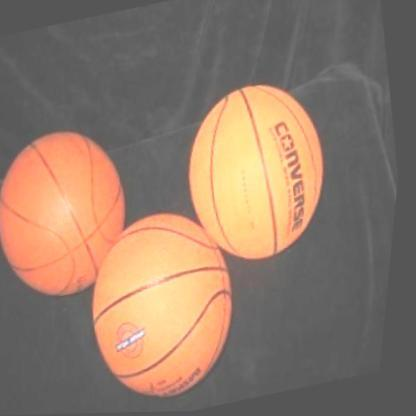basketball: (75, 198, 262, 414), (171, 69, 352, 273), (0, 117, 155, 308)
